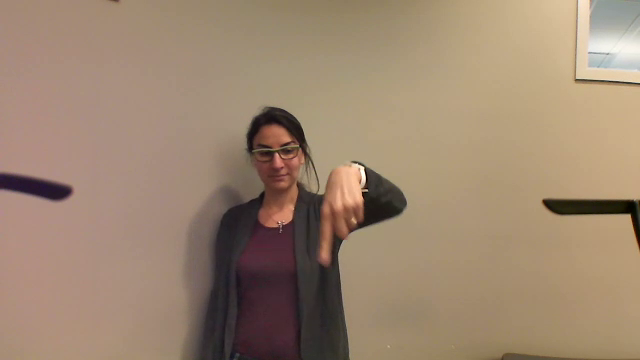down: (314, 153, 373, 276)
